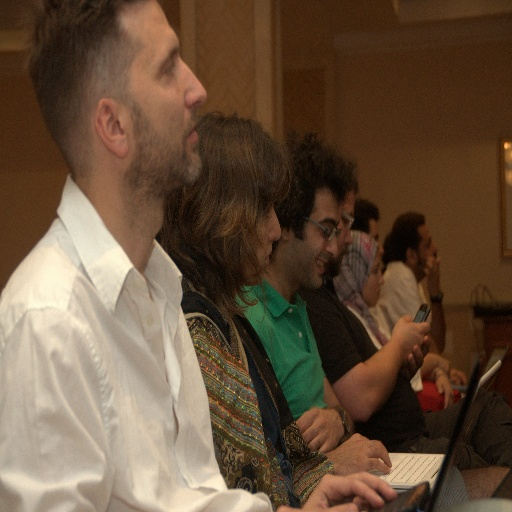hand: (302, 473, 397, 511), (323, 430, 391, 474), (296, 405, 346, 453), (407, 334, 429, 381), (431, 365, 452, 409), (423, 252, 440, 291), (450, 369, 465, 386), (279, 504, 313, 511)
